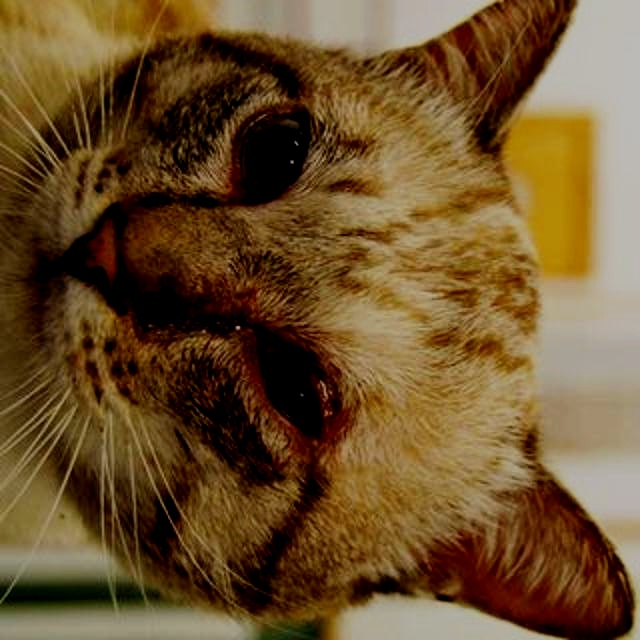eye_infection: (230, 101, 320, 209), (248, 330, 332, 441)
